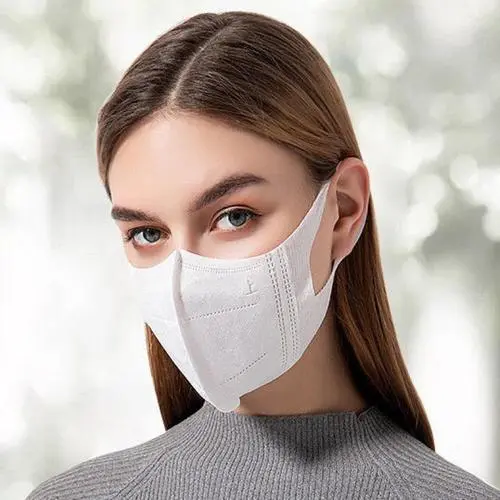withmask: (87, 2, 381, 412)
